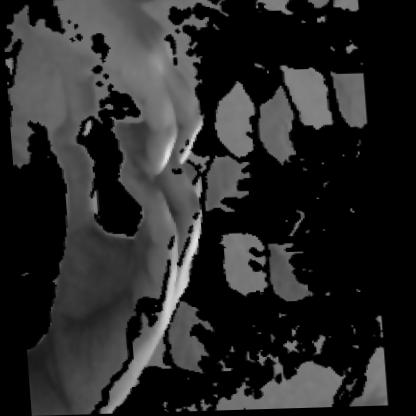heart: (33, 44, 224, 336)
